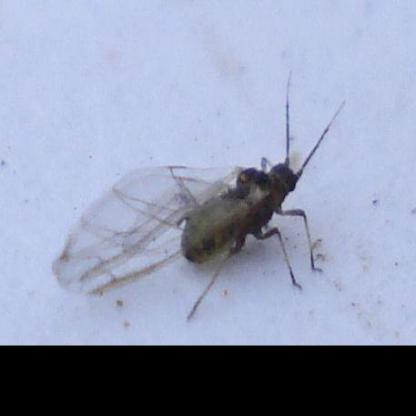aphid: (49, 82, 349, 318)
